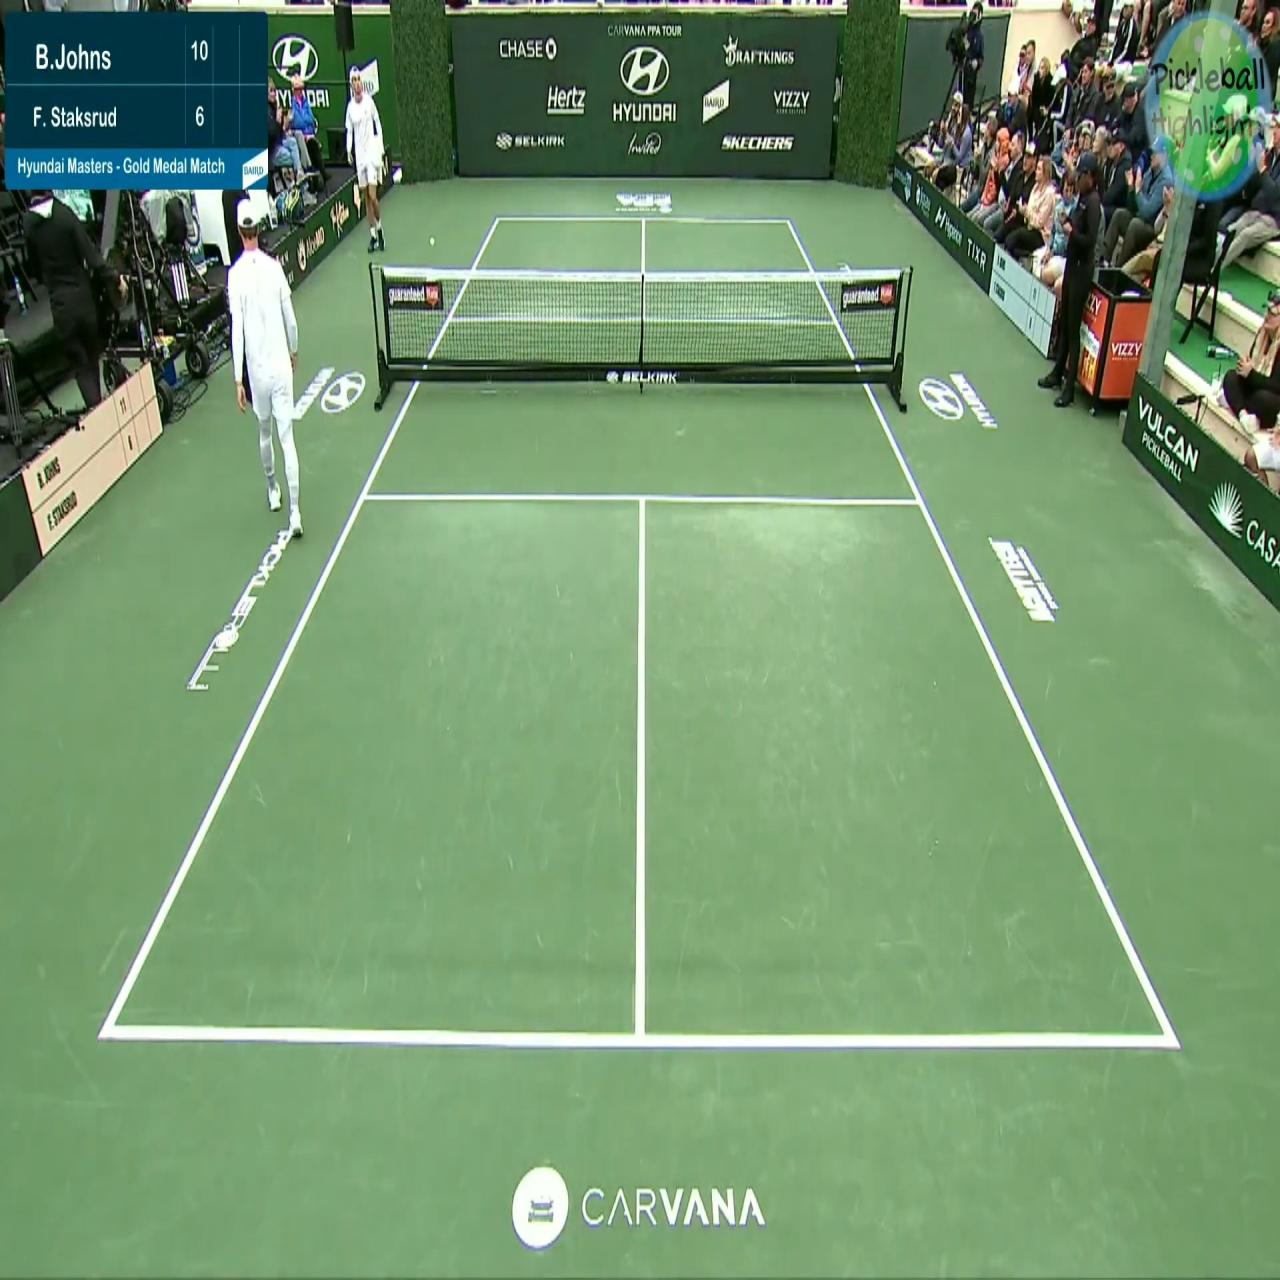pickleball: (429, 236, 435, 246)
